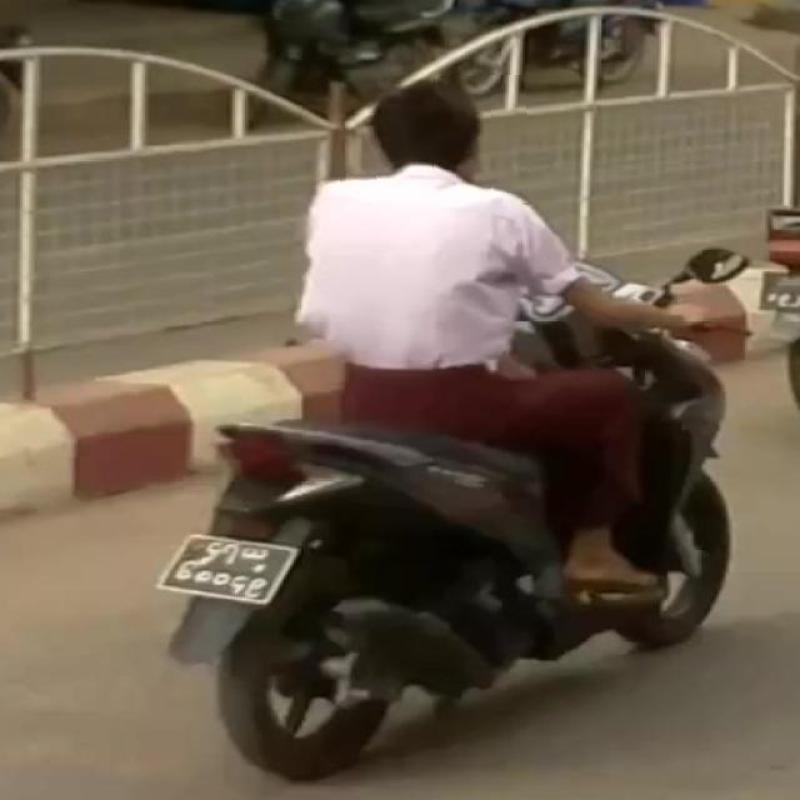nohelmet: (338, 76, 528, 205)
